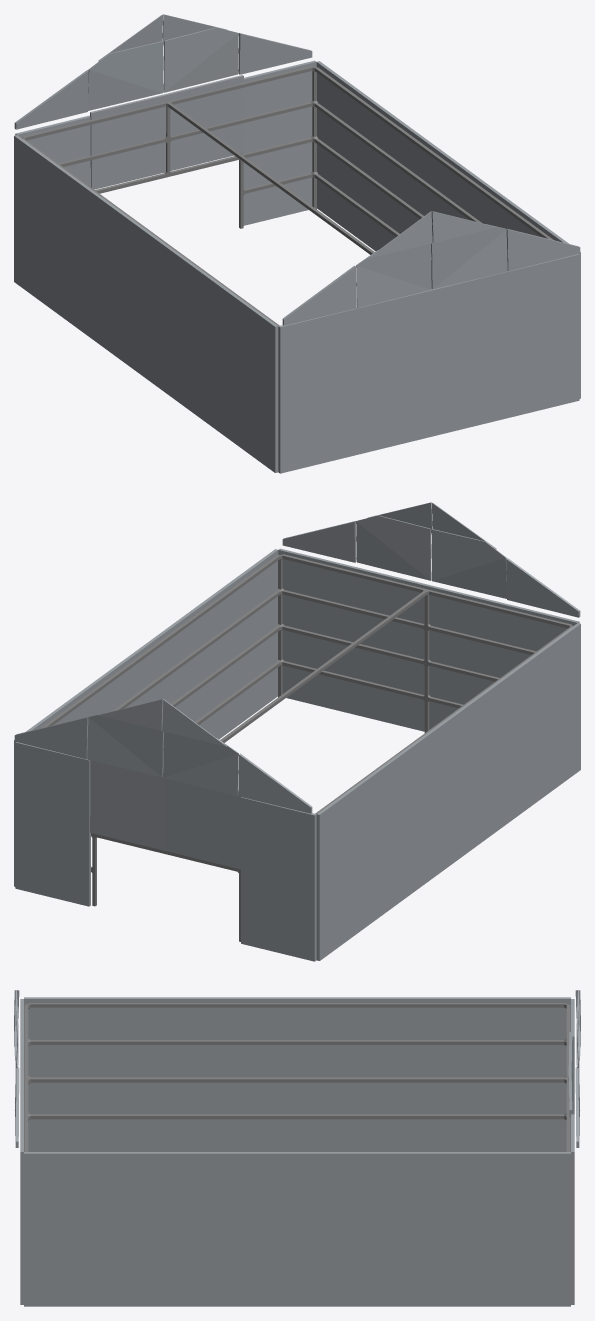
The model's file is nnnnn 1.fbx.
3 views of the same model, one above another, from view 1: azimuth 30°, elevation 25°; view 2: azimuth 150°, elevation 25°; view 3: azimuth 270°, elevation 25° (orthographic). The views are drawn at different scales.
Parts seen in each view (by area): view 1: 1; view 2: 1; view 3: 1.
Boxes of the visible parts, x1,y1,x2,y2 form: 1: (14, 14, 580, 473); 1: (14, 502, 580, 961); 1: (14, 990, 580, 1306).
Bounding box in the file's own units: 2006 × 1428 × 3079.
